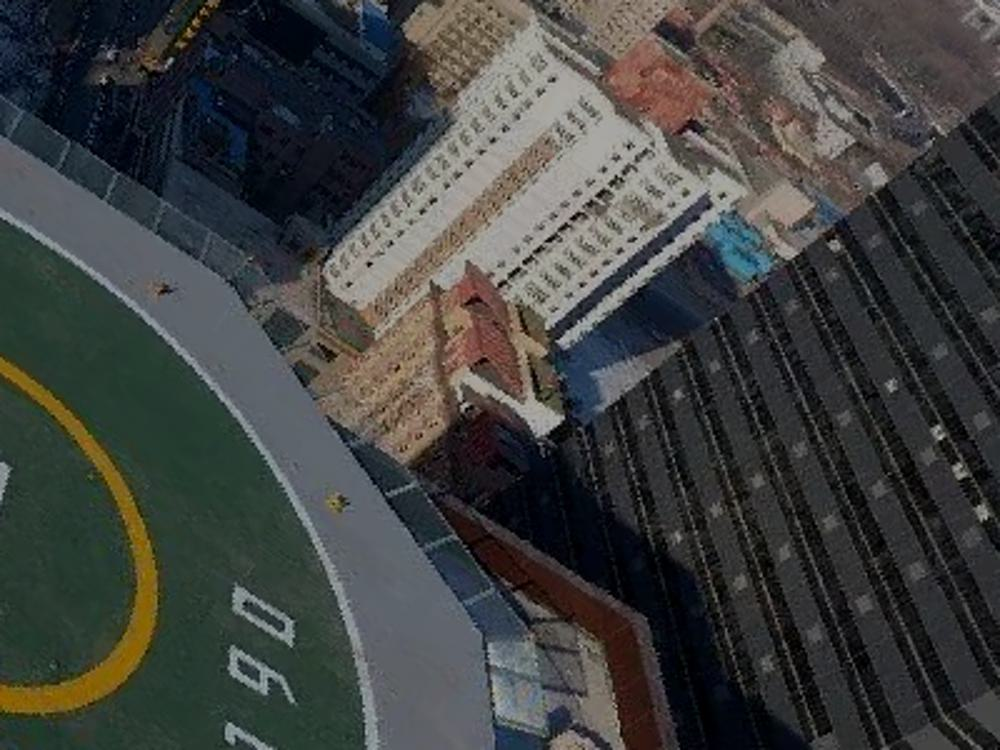Apron: (1, 359, 183, 728)
